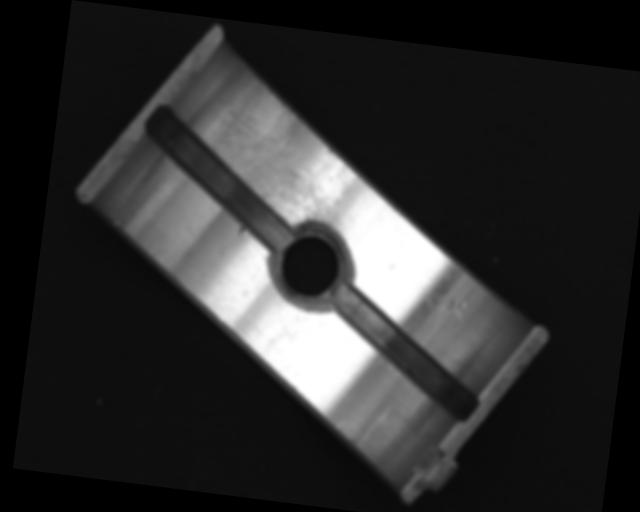bruise: (444, 296, 468, 321), (236, 223, 248, 239)
gap: (131, 105, 307, 252), (322, 284, 488, 422)
hole: (264, 220, 359, 316)
scratch: (199, 77, 367, 244)
